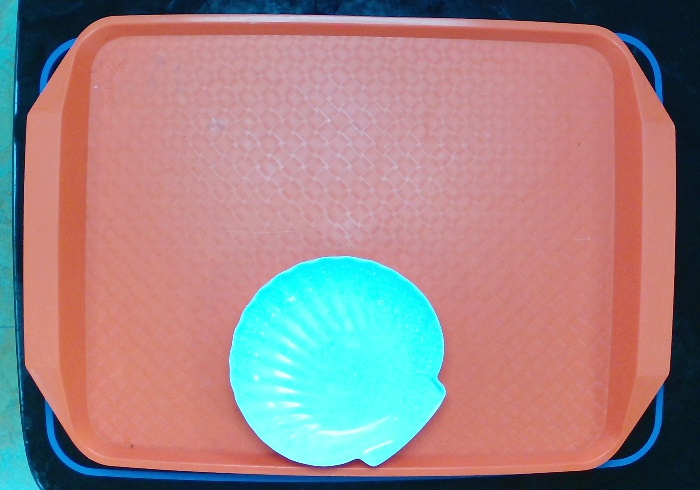RJxy-Bei_Ke_Wan: (225, 251, 451, 473)
